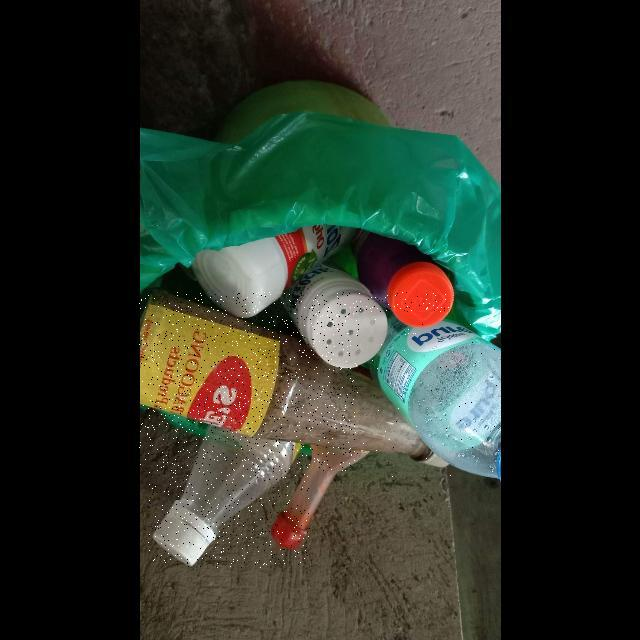glass: (139, 292, 450, 470)
plastic: (358, 312, 500, 480), (148, 425, 310, 567)
